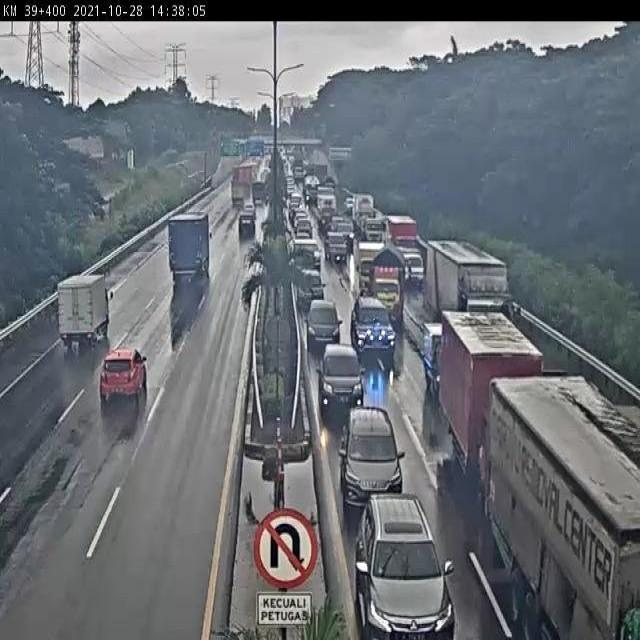big truck: (486, 370, 640, 640), (439, 312, 550, 492), (422, 234, 523, 358), (36, 272, 123, 367), (162, 206, 216, 294), (370, 252, 412, 331)
car: (351, 485, 451, 640), (345, 400, 414, 512), (93, 338, 159, 426), (322, 336, 370, 432), (348, 294, 398, 366), (416, 317, 448, 407), (308, 283, 339, 361), (296, 267, 330, 324)
